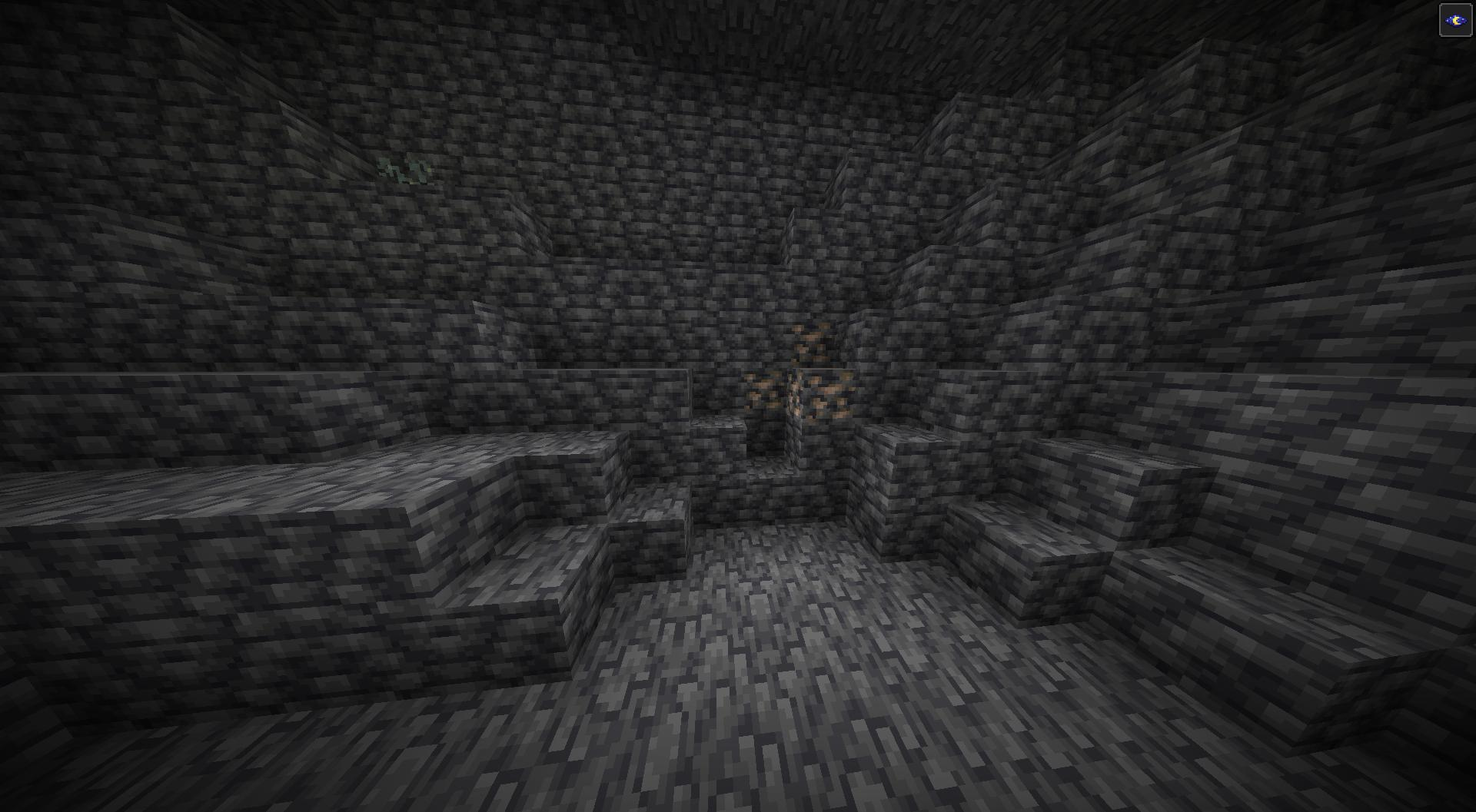iron ore: (790, 368, 860, 423), (790, 318, 839, 372), (738, 363, 785, 419)
